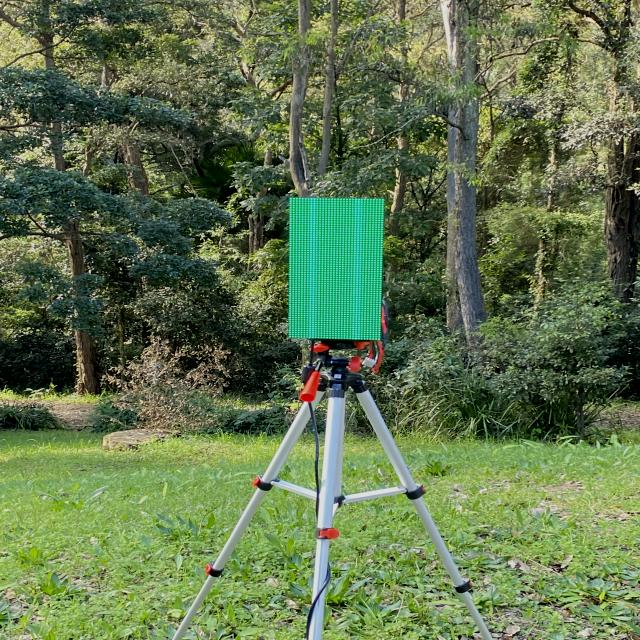matrix: (281, 188, 402, 352)
